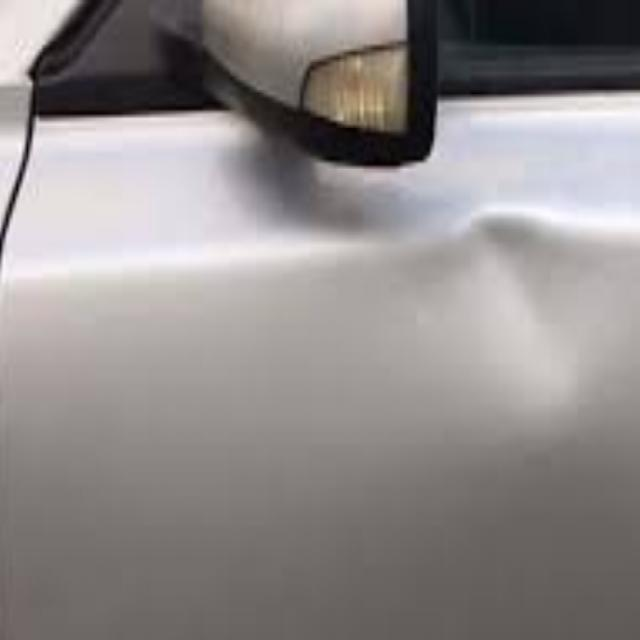dents: (408, 202, 608, 441)
